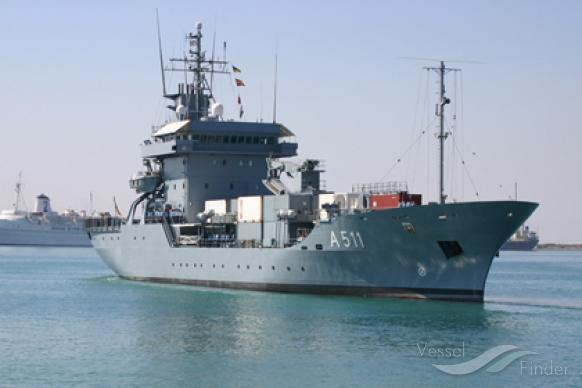OCR: (328, 225, 370, 251)
